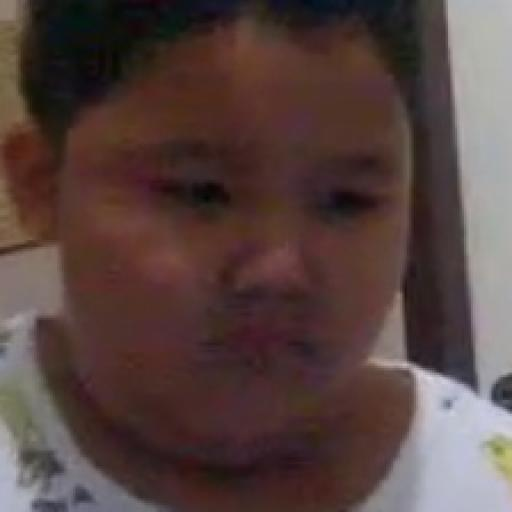Autism: (23, 17, 417, 477)
